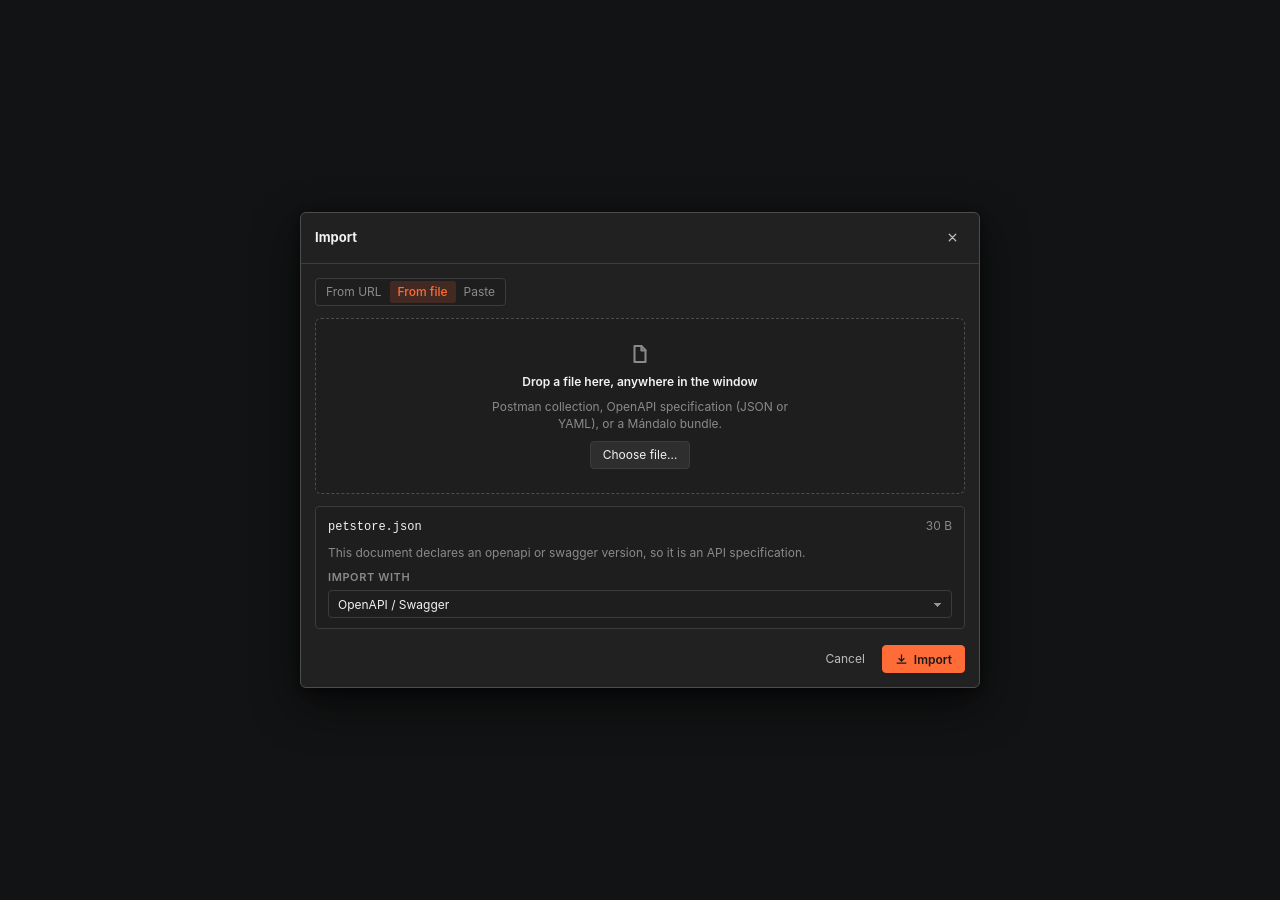
Test case: ImportDialog › imports a dropped document with the importer its content names
Check: the text "petstore.json" is shown, box top-left (328, 519), bottom-right (422, 536)
What coordinates should you click on to do the following:
click the button "Import"
I would click on:
 (923, 659)
Its box is top-left (882, 645), bottom-right (965, 673).
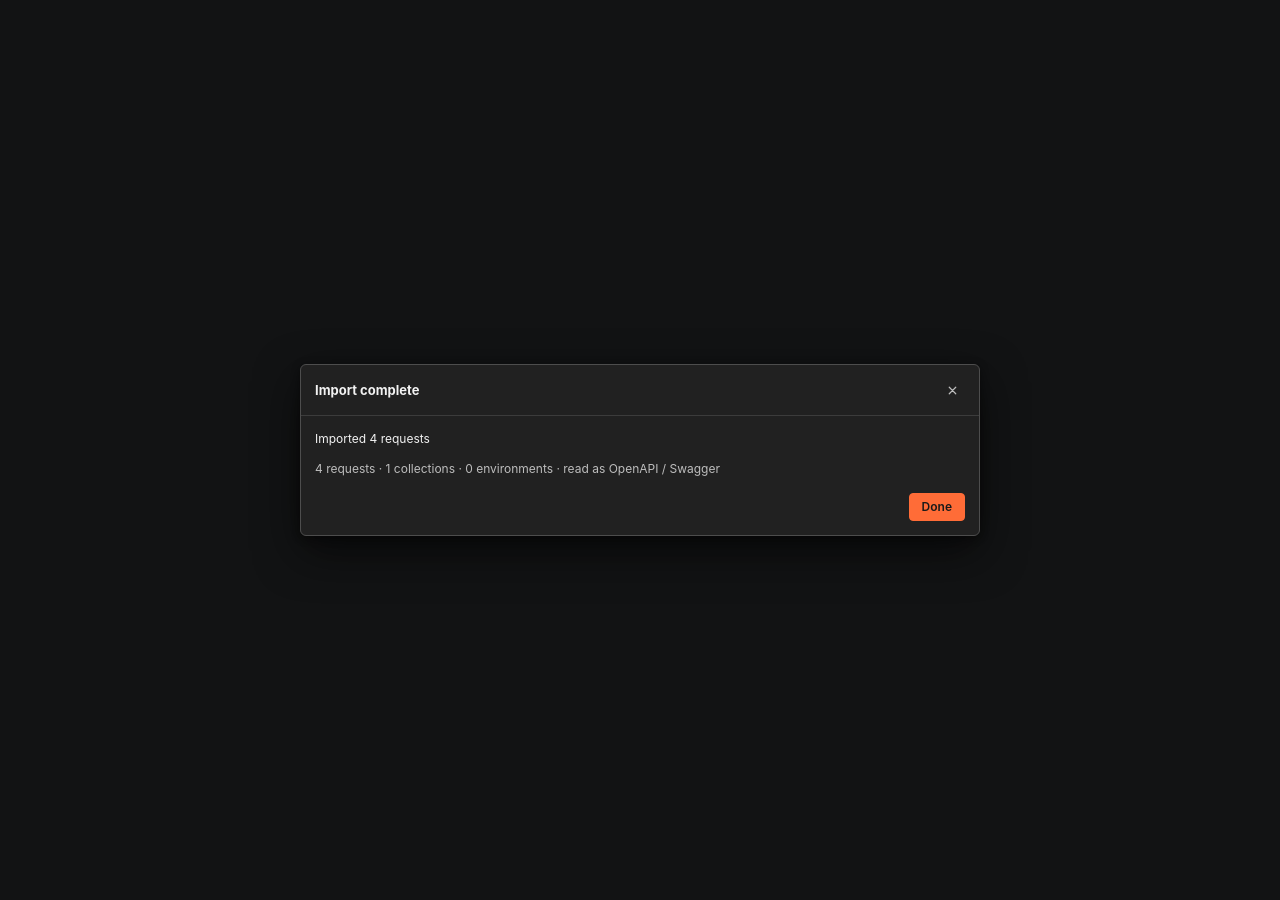
Check: the heading "Import complete" is shown, box top-left (315, 381), bottom-right (419, 400)
Check: the text "read as OpenAPI / Swagger" is shown, box top-left (315, 460), bottom-right (720, 476)
